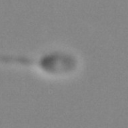normal: (1, 49, 38, 73)
